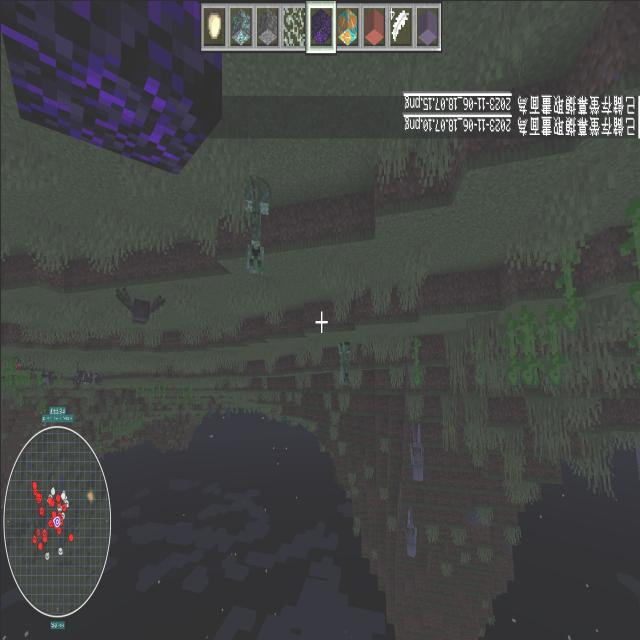Creeper: (239, 168, 273, 278), (336, 334, 352, 390)
Skeleton: (406, 416, 426, 488), (401, 502, 418, 562)
Spider: (112, 282, 166, 330), (12, 350, 40, 372)
Zombie: (206, 399, 212, 419), (278, 414, 286, 424), (284, 413, 290, 425), (226, 400, 230, 418)
cow: (70, 361, 92, 388), (38, 363, 56, 388), (85, 362, 103, 386)
